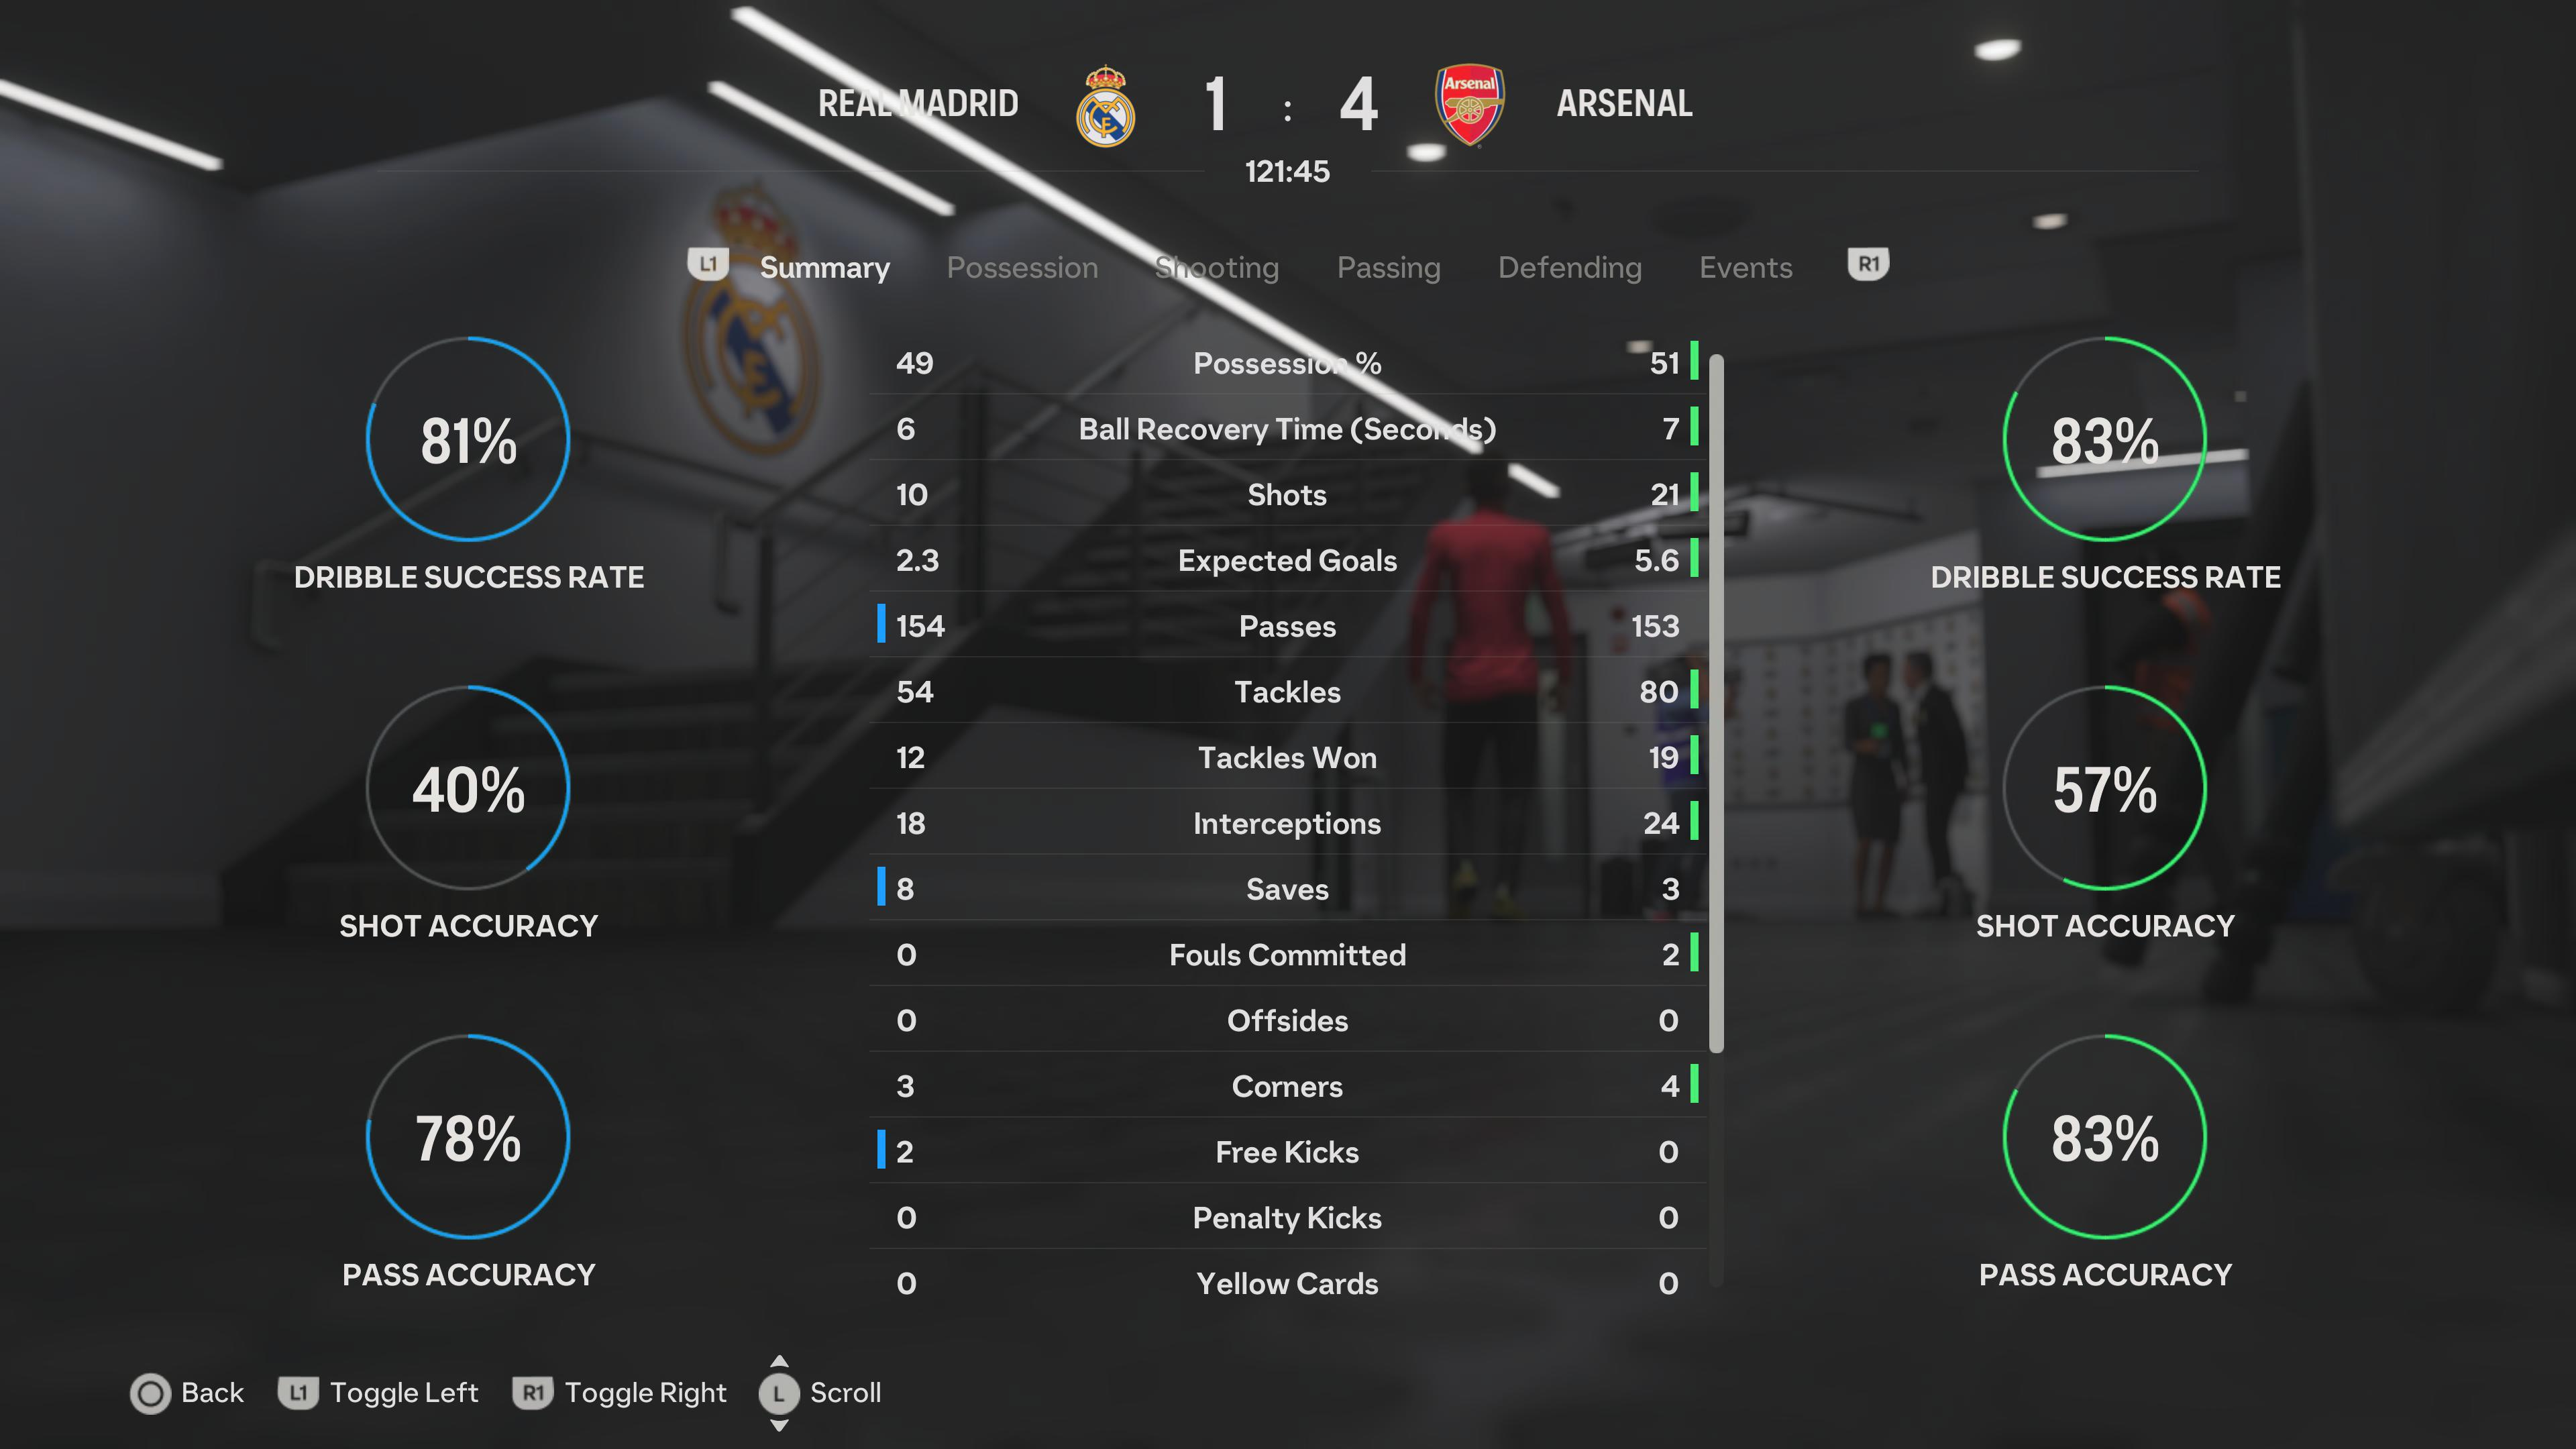BALL_RECOVERY_TIME_AWAY: (1628, 402, 1688, 460)
BALL_RECOVERY_TIME_HOME: (888, 407, 927, 448)
CORNERS_AWAY: (1631, 1053, 1684, 1116)
CORNERS_HOME: (890, 1063, 950, 1115)
DRIBBLE_SUCCESS_RATE_AWAY: (2022, 405, 2190, 478)
DRIBBLE_SUCCESS_RATE_HOME: (386, 395, 550, 479)
EXPECTED_GOALS_AWAY: (1622, 527, 1688, 591)
EXPECTED_GOALS_HOME: (888, 529, 954, 582)
FOULS_COMMITTED_AWAY: (1640, 922, 1690, 977)
FOULS_COMMITTED_HOME: (892, 931, 950, 978)
FREE_KICKS_AWAY: (1638, 1116, 1686, 1180)
FREE_KICKS_HOME: (888, 1127, 947, 1178)
INTERCEPTIONS_AWAY: (1626, 789, 1688, 851)
INTERCEPTIONS_HOME: (890, 801, 947, 849)
OFFSIDES_AWAY: (1638, 987, 1690, 1051)
OFFSIDES_HOME: (892, 994, 948, 1047)
PAGE_ID: (269, 550, 679, 602)
PASSES_AWAY: (1622, 594, 1688, 656)
PASSES_HOME: (890, 603, 952, 649)
PASS_ACCURACY_AWAY: (2020, 1106, 2190, 1177)
PASS_ACCURACY_HOME: (380, 1108, 554, 1171)
PENALTY_KICKS_AWAY: (1631, 1185, 1688, 1251)
PENALTY_KICKS_HOME: (888, 1194, 954, 1242)
POSSESSION_AWAY: (1629, 333, 1690, 389)
POSSESSION_HOME: (888, 340, 943, 384)
SAVES_AWAY: (1629, 856, 1688, 913)
SAVES_HOME: (892, 867, 945, 909)
SCORE_AWAY: (1304, 42, 1419, 156)
SCORE_HOME: (1143, 41, 1254, 157)
SHOTS_AWAY: (1633, 472, 1686, 513)
SHOTS_HOME: (886, 474, 931, 517)
SHOT_ACCURACY_AWAY: (2024, 759, 2192, 828)
SHOT_ACCURACY_HOME: (382, 754, 556, 828)
TACKLES_AWAY: (1631, 658, 1688, 720)
TACKLES_HOME: (888, 671, 948, 715)
TACKLES_WON_AWAY: (1629, 724, 1684, 787)
TACKLES_WON_HOME: (888, 732, 939, 782)
TEAM_AWAY: (1527, 50, 1884, 157)
TEAM_HOME: (656, 51, 1070, 165)
TOTAL_MATCH_TIME: (1201, 140, 1362, 205)
YELLOW_CARDS_AWAY: (1633, 1256, 1688, 1323)
YELLOW_CARDS_HOME: (888, 1258, 955, 1311)
